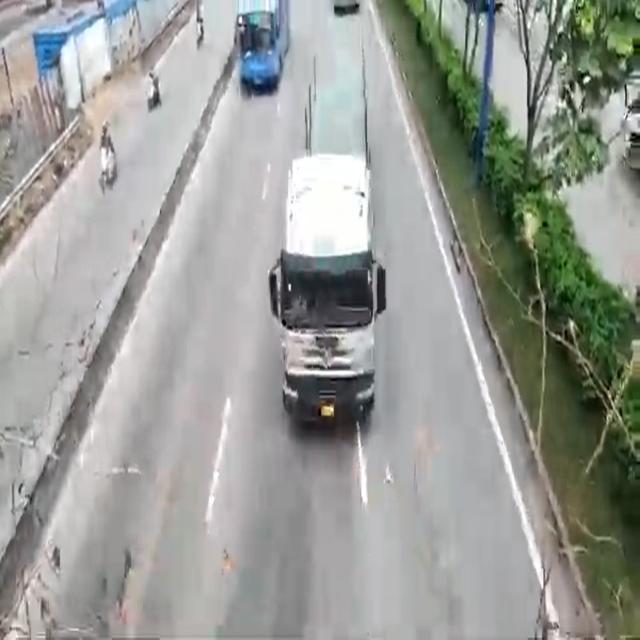bus: (236, 3, 288, 95)
motor: (96, 145, 120, 195), (145, 82, 165, 112)
truck: (292, 56, 376, 426)
